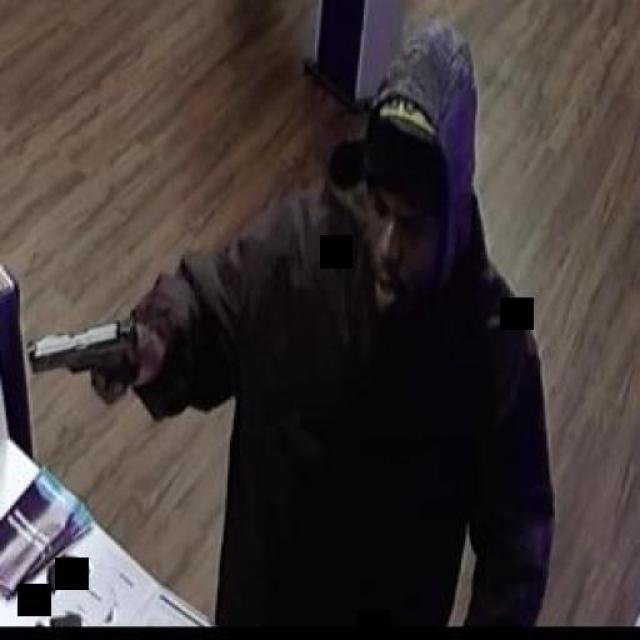gun: (22, 318, 140, 402)
